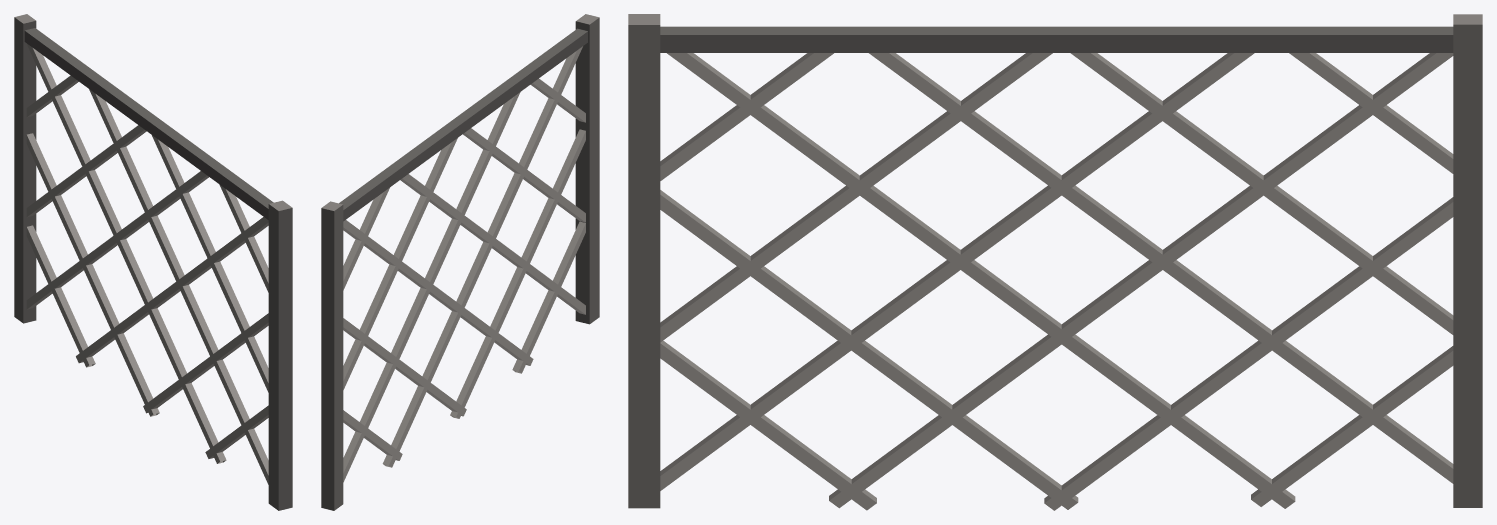
Rendered from Fence_Wire_01.fbx.
3 views of the same model, side by side, from view 1: azimuth 30°, elevation 25°; view 2: azimuth 150°, elevation 25°; view 3: azimuth 270°, elevation 25° (orthographic). The views are drawn at different scales.
Visible parts, largest first — view 1: Fence_Wire_01; view 2: Fence_Wire_01; view 3: Fence_Wire_01.
Part boxes in pixels (x1,y1,x2,y2): Fence_Wire_01: [14, 14, 292, 510]; Fence_Wire_01: [321, 14, 599, 510]; Fence_Wire_01: [628, 14, 1482, 510].
Size of the model in its own units: 0.1501 by 4.93 by 3.12.
